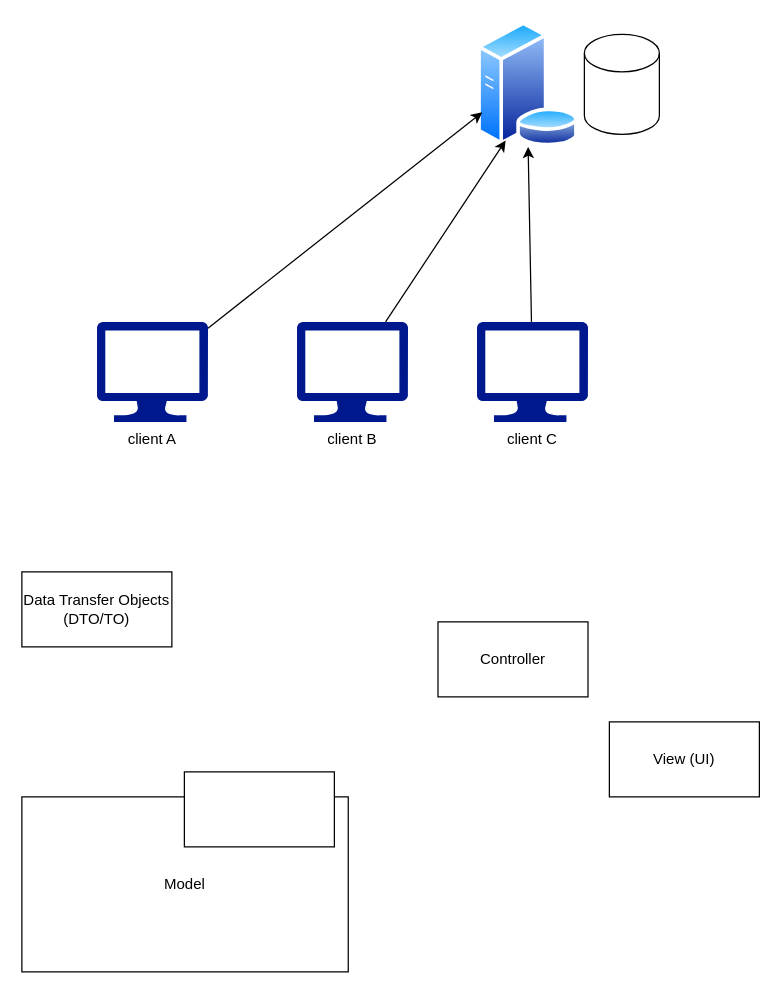
This 781x994 diagram has some shape labels left out. Here are the shapes that lost their labels. From the top down, the box of each, then its label:
(583, 33, 659, 134): mysql-db-server
(183, 771, 334, 847): Service
